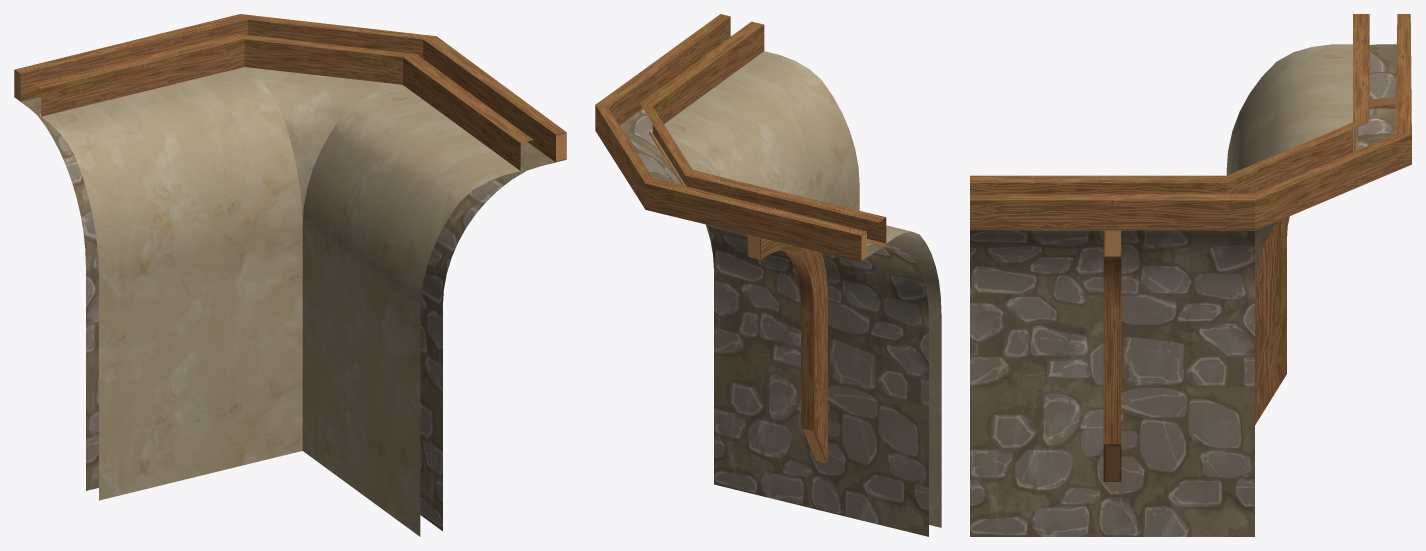
File: Overhang_UnevenBrick_Corner.glb
3 renders of one model, left to right at view 1: azimuth 30°, elevation 25°; view 2: azimuth 150°, elevation 25°; view 3: azimuth 270°, elevation 25°, orthographic. The views are drawn at different scales.
Parts seen in each view (by area): view 1: Overhang_UnevenBrick_Corner; view 2: Overhang_UnevenBrick_Corner; view 3: Overhang_UnevenBrick_Corner.
Part boxes in pixels (x1,y1,x2,y2): Overhang_UnevenBrick_Corner: (14,14,566,536); Overhang_UnevenBrick_Corner: (595,14,941,536); Overhang_UnevenBrick_Corner: (970,14,1411,536).
Bounding box in the file's own units: 3.1 × 3.12 × 3.1.
3 materials, 3 textured.
